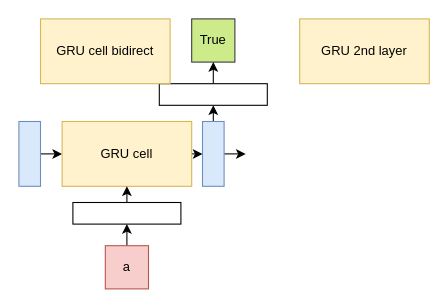
This 448x308 diagram has some shape labels left out. Here are the shapes that lost their labels. From the top down, the centre of each, then its label:
point 212,94: sigmoid(decoder)
point 126,212: embedding
